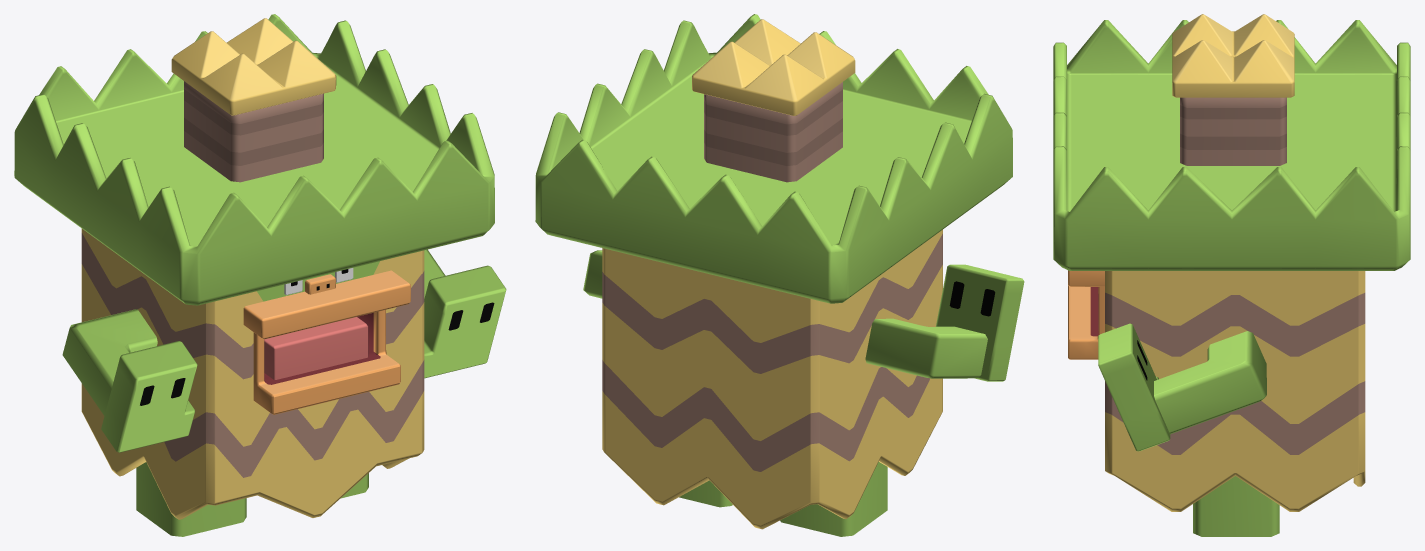
The picture shows the model from 3 angles, left to right: view 1: azimuth 30°, elevation 25°; view 2: azimuth 150°, elevation 25°; view 3: azimuth 270°, elevation 25°; orthographic projection.
Parts seen in each view (by area): view 1: 0272_ludicolo; view 2: 0272_ludicolo; view 3: 0272_ludicolo.
Part boxes in pixels (x1=…): 0272_ludicolo: x1=14, y1=14, x2=506, y2=536; 0272_ludicolo: x1=535, y1=14, x2=1024, y2=536; 0272_ludicolo: x1=1053, y1=14, x2=1410, y2=536.
Bounding box in the file's own units: 3.01 × 3.59 × 2.52.
Materials: 1 (1 with a texture image).
